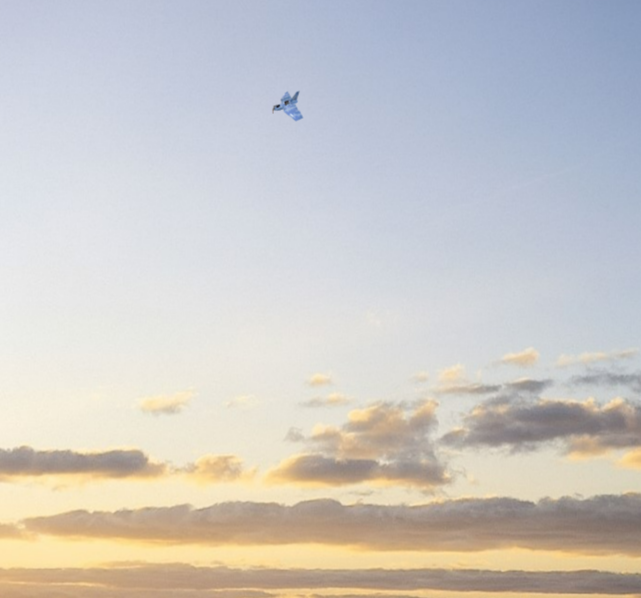military drone: (271, 90, 303, 121)
